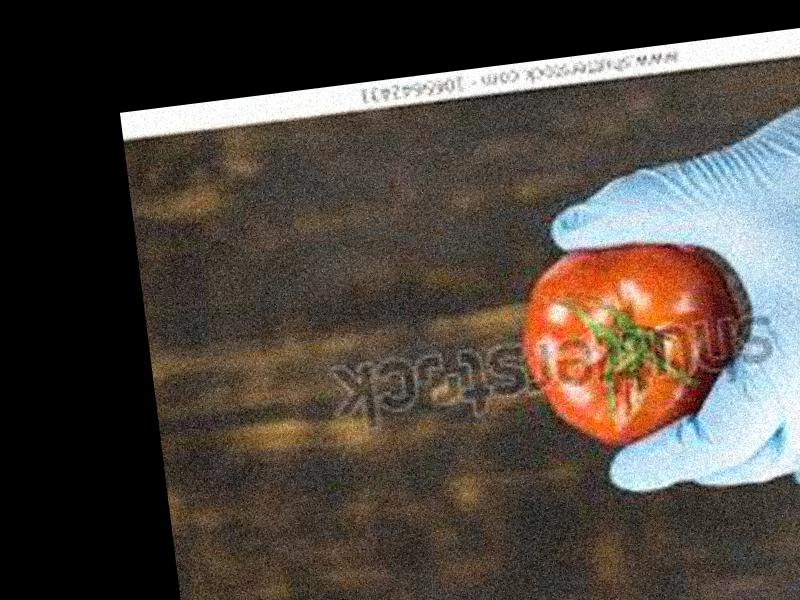Tomato: (509, 229, 754, 456)
